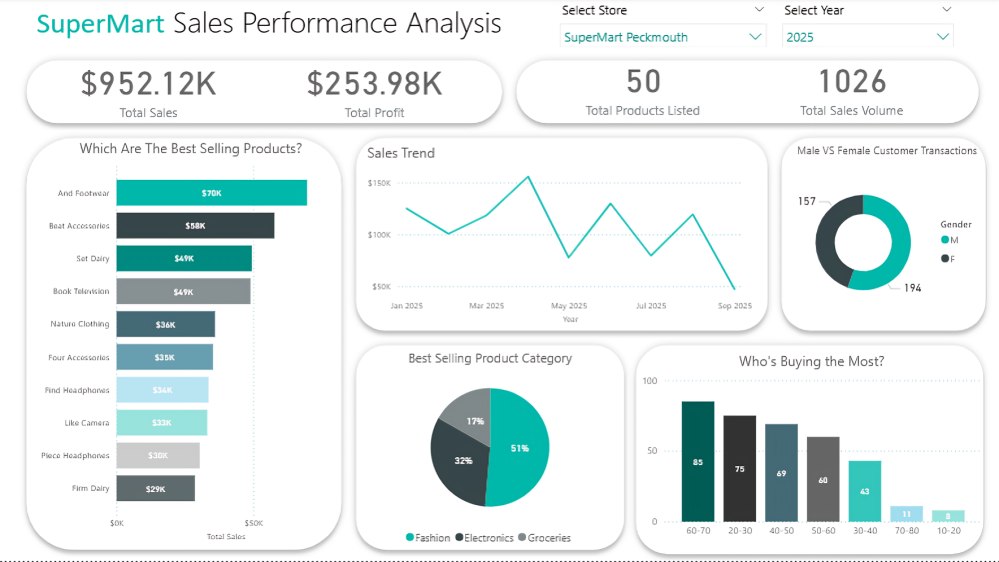

What the dashboard file says about the page in this screenshot:
{"tool":"powerbi","page":{"name":"Sales Dashboard","canvas":[1280,720],"ordinal":0},"visuals":[{"type":"group","id":"g1","title":"Background","box":[25.6,70.1,1242.4,649.3],"z":0},{"type":"shape","box":[25.6,169.2,420.4,545.2],"z":0,"group":"g1"},{"type":"textbox","box":[42.7,0,652.8,63.2],"z":1000},{"type":"shape","box":[446,169.2,543.4,264.9],"z":1000,"group":"g1"},{"type":"card","fields":{"Values":["_Measures.Total Sales"]},"box":[42.7,70.1,295.6,88.9],"z":2000},{"type":"shape","box":[989.4,169.2,278.6,264.9],"z":2000,"group":"g1"},{"type":"card","fields":{"Values":["_Measures.Total Profit"]},"box":[338.4,70.1,282,88.9],"z":3000},{"type":"shape","box":[803.8,434,461.4,285.4],"z":3000,"group":"g1"},{"type":"card","fields":{"Values":["_Measures.Total Products"]},"box":[678.5,66.6,287.1,92.3],"z":4000},{"type":"shape","box":[446,434.1,360.6,280.3],"z":4000,"group":"g1"},{"type":"shape","box":[25.6,70.1,625.5,99.1],"z":5000,"group":"g1"},{"type":"card","fields":{"Values":["_Measures.Total Sales Volume"]},"box":[955.3,66.6,266.6,92.3],"z":5000},{"type":"shape","box":[651.1,70.1,608.4,99.1],"z":5500,"group":"g1"},{"type":"barChart","title":"Which Are The Best Selling Products?","fields":{"Category":["Products.Product_Name"],"Y":["_Measures.Total Sales"],"Series":["Products.Product_Name"]},"box":[42.7,179.4,403.3,521.2],"z":6000},{"type":"columnChart","title":"Who''s Buying the Most?","fields":{"Category":["Customers.Age Group"],"Y":["CountNonNull(Transactions.Transaction_ID)"],"Series":["Customers.Age Group"]},"box":[815.2,452.9,444.3,247.8],"z":7000},{"type":"lineChart","title":"Sales Trend","fields":{"Y":["_Measures.Total Sales"],"Category":["Transactions.Date.Variation.Date Hierarchy.Year","Transactions.Date.Variation.Date Hierarchy.Quarter","Transactions.Date.Variation.Date Hierarchy.Month","Transactions.Date.Variation.Date Hierarchy.Day"]},"box":[464.8,186.3,500.7,237.5],"z":8000},{"type":"donutChart","title":"Male VS Female Customer Transactions","fields":{"Category":["Customers.Gender"],"Y":["CountNonNull(Transactions.Transaction_ID)"]},"box":[999.4,185.8,267.8,237.6],"z":9000},{"type":"slicer","fields":{"Values":["Transactions.Date.Variation.Date Hierarchy.Year"]},"box":[989.5,0,239.3,63.2],"z":10000},{"type":"slicer","fields":{"Values":["Stores.Store_Name"]},"box":[705.8,0,283.7,63.2],"z":11000},{"type":"pieChart","title":"Best Selling Product Category","fields":{"Category":["Products.Category","Products.SubCategory"],"Y":["_Measures.Total Sales Volume"]},"box":[446,449.5,360.6,259.8],"z":12000}]}

Visuals, with their boxes in screenshot pixels (x1, y1, x2, y2), scaled from the page's 1280x720 canvas onto the 999x562 screenshot:
"Background" group: locate(20, 55, 990, 561)
shape: locate(20, 132, 348, 558)
textbox: locate(33, 0, 543, 49)
shape: locate(348, 132, 772, 339)
card - _Measures.Total Sales: locate(33, 55, 264, 124)
shape: locate(772, 132, 990, 339)
card - _Measures.Total Profit: locate(264, 55, 484, 124)
shape: locate(627, 339, 987, 561)
card - _Measures.Total Products: locate(530, 52, 754, 124)
shape: locate(348, 339, 630, 558)
shape: locate(20, 55, 508, 132)
card - _Measures.Total Sales Volume: locate(746, 52, 954, 124)
shape: locate(508, 55, 983, 132)
"Which Are The Best Selling Products?" barChart: locate(33, 140, 348, 547)
"Who''s Buying the Most?" columnChart: locate(636, 354, 983, 547)
"Sales Trend" lineChart: locate(363, 145, 754, 331)
"Male VS Female Customer Transactions" donutChart: locate(780, 145, 989, 330)
slicer - Transactions.Date.Variation.Date Hierarchy.Year: locate(772, 0, 959, 49)
slicer - Stores.Store_Name: locate(551, 0, 772, 49)
"Best Selling Product Category" pieChart: locate(348, 351, 630, 554)
